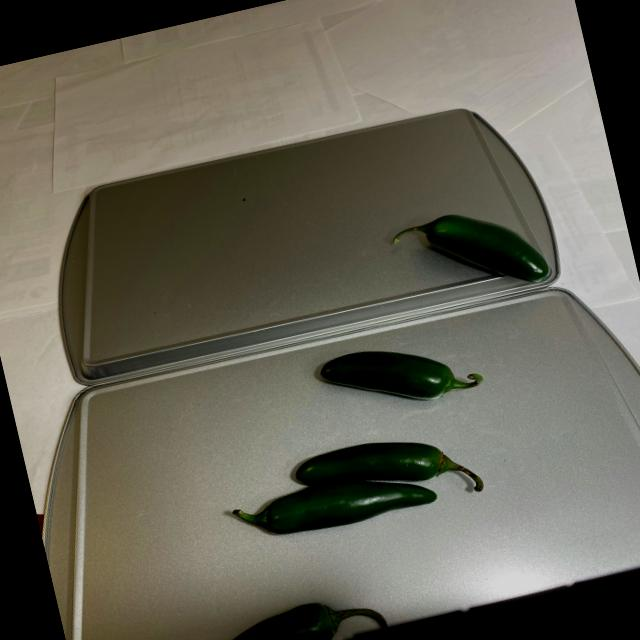chilli: (124, 324, 531, 640), (381, 189, 558, 318)
